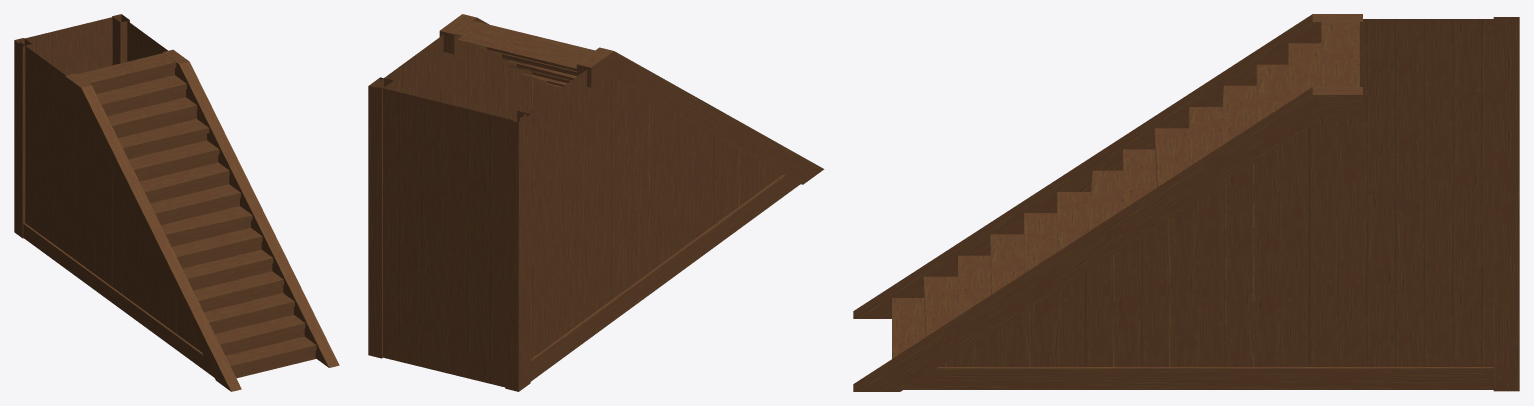
The model's file is Stair_Interior_SolidExtended.glb.
3 renders of one model, left to right at view 1: azimuth 30°, elevation 25°; view 2: azimuth 150°, elevation 25°; view 3: azimuth 270°, elevation 25°, orthographic. The views are drawn at different scales.
Visible parts, largest first — view 1: Stair_Interior_SolidExtended; view 2: Stair_Interior_SolidExtended; view 3: Stair_Interior_SolidExtended.
Part boxes in pixels (x1,y1,x2,y2): Stair_Interior_SolidExtended: (14,14,339,391); Stair_Interior_SolidExtended: (368,14,824,391); Stair_Interior_SolidExtended: (853,14,1519,391).
Bounding box in the file's own units: 1.77 × 3.05 × 6.16.
1 material, 1 textured.
